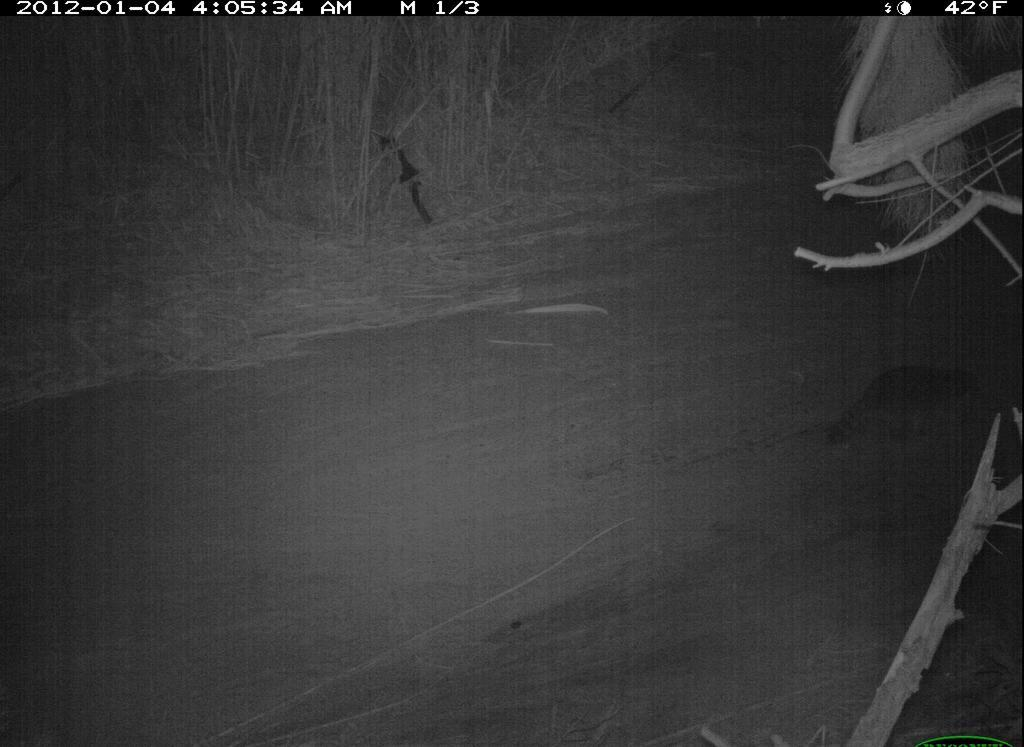raccoon: (808, 346, 993, 468)
